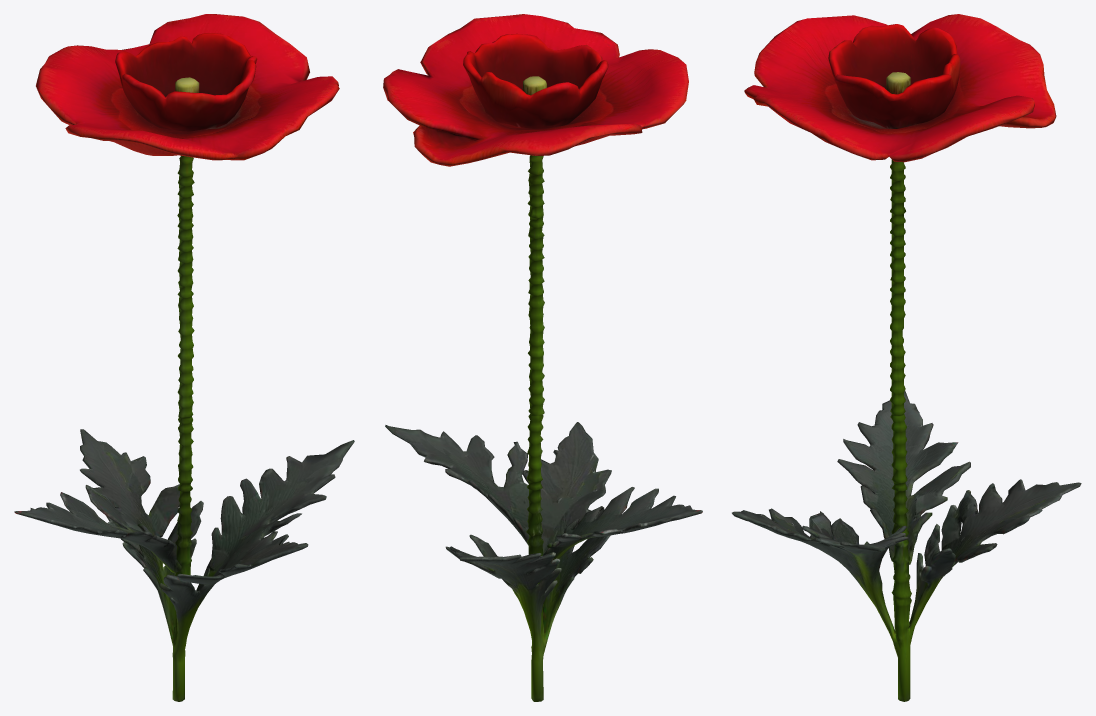
Rendered from red_poppy.glb.
3 views of the same model, side by side, from view 1: azimuth 30°, elevation 25°; view 2: azimuth 150°, elevation 25°; view 3: azimuth 270°, elevation 25° (orthographic).
Parts seen in each view (by area): view 1: Mesh_0; view 2: Mesh_0; view 3: Mesh_0.
Boxes of the visible parts, x1,y1,x2,y2 form: Mesh_0: (14, 14, 354, 701); Mesh_0: (383, 14, 702, 701); Mesh_0: (732, 14, 1081, 701).
Bounding box in the file's own units: 1.07 × 2 × 0.9754.
1 material, 1 textured.
